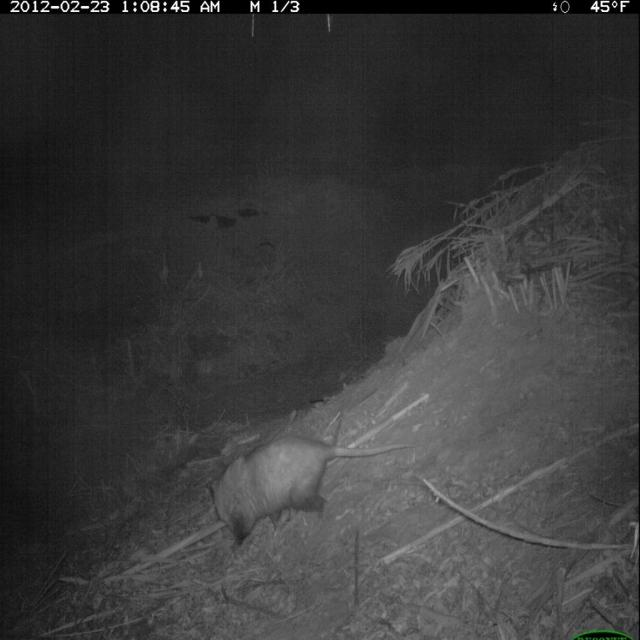opossum: (195, 434, 410, 551)
